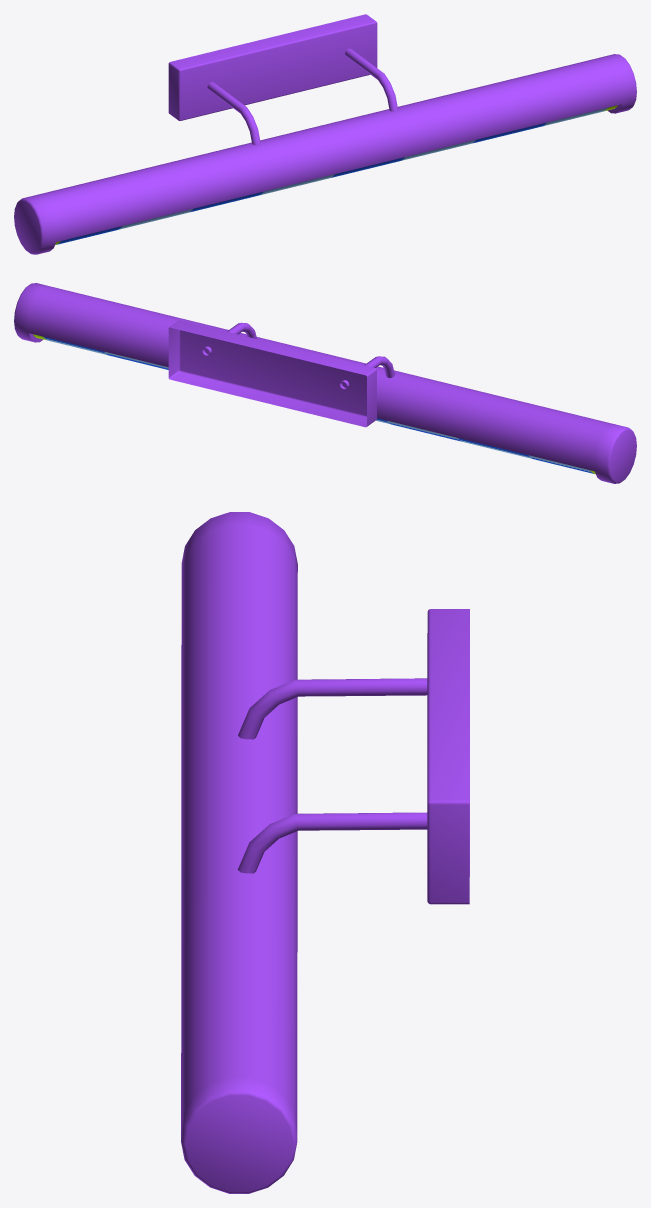
File: LightWall09_1.FBX
3 views of the same model, one above another, from view 1: azimuth 30°, elevation 25°; view 2: azimuth 150°, elevation 25°; view 3: azimuth 270°, elevation 25° (orthographic). The views are drawn at different scales.
Visible parts, largest first — view 1: LightWall09_1; view 2: LightWall09_1; view 3: LightWall09_1.
Part boxes in pixels (x1=…): LightWall09_1: x1=14, y1=14, x2=636, y2=254; LightWall09_1: x1=14, y1=283, x2=636, y2=483; LightWall09_1: x1=181, y1=512, x2=469, y2=1193.
Size of the model in its own units: 60 by 9.63 by 12.6.
